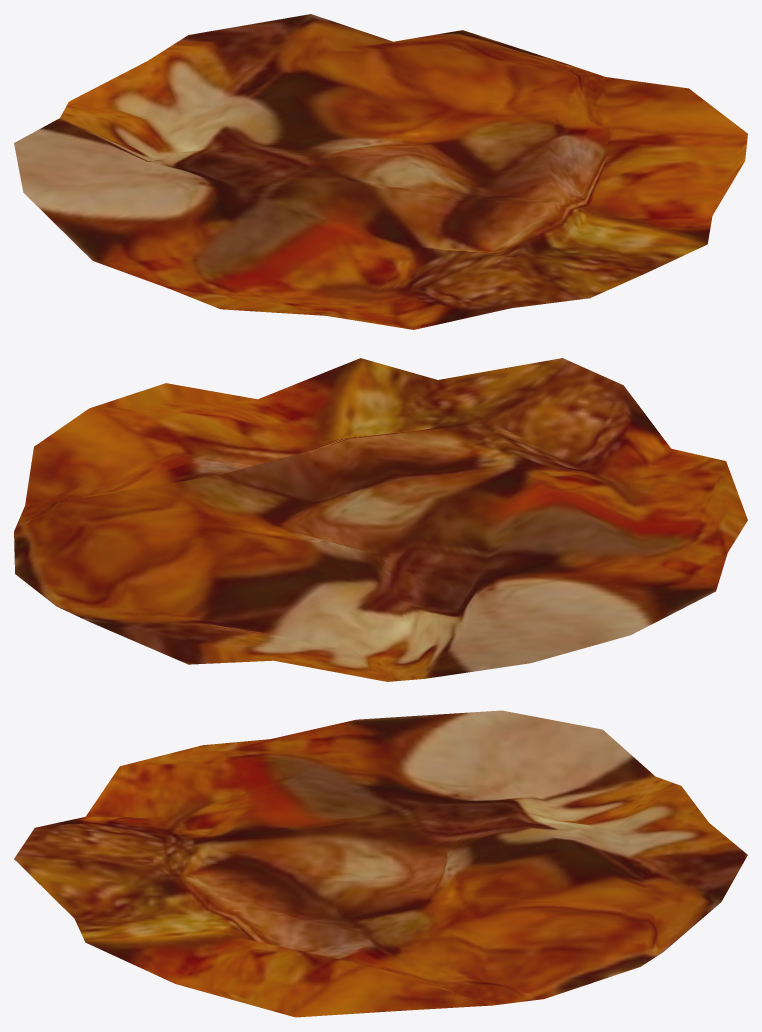
The model's file is cooked food.obj.
3 views of the same model, one above another, from view 1: azimuth 30°, elevation 25°; view 2: azimuth 150°, elevation 25°; view 3: azimuth 270°, elevation 25° (orthographic). The views are drawn at different scales.
Parts seen in each view (by area): view 1: polySurface9; view 2: polySurface9; view 3: polySurface9.
Boxes of the visible parts, x1,y1,x2,y2 form: polySurface9: (14, 14, 747, 329); polySurface9: (14, 358, 747, 681); polySurface9: (14, 710, 747, 1017).
Size of the model in its own units: 2.28 by 0.1241 by 2.39.
1 material, 1 textured.
